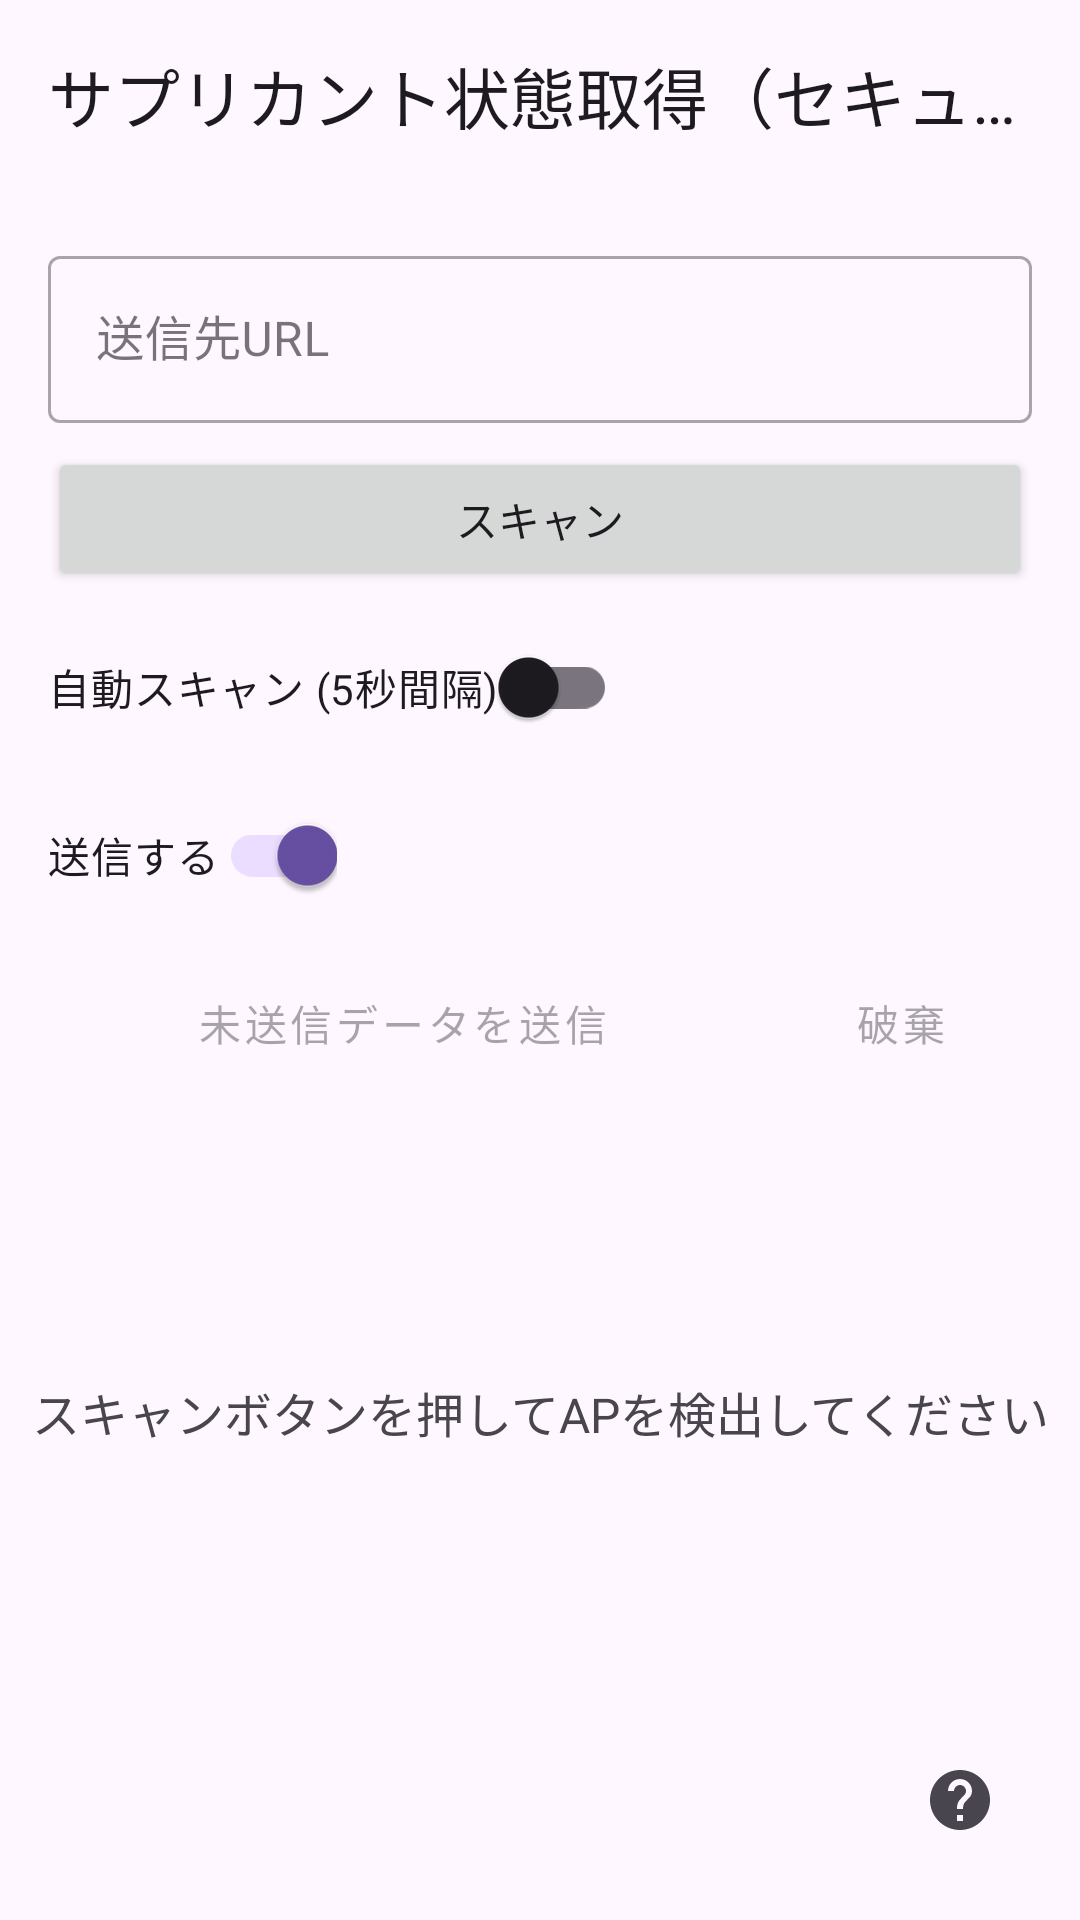

Icons on this 1080w x 1920h Android screen, each with the point to tap as (x=x, y=y):
ヘルプ: (x=960, y=1800)
